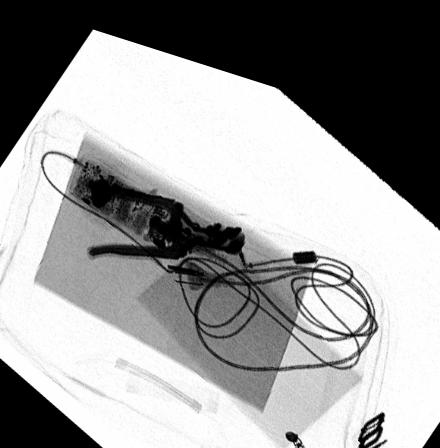Pliers: (85, 175, 248, 252)
